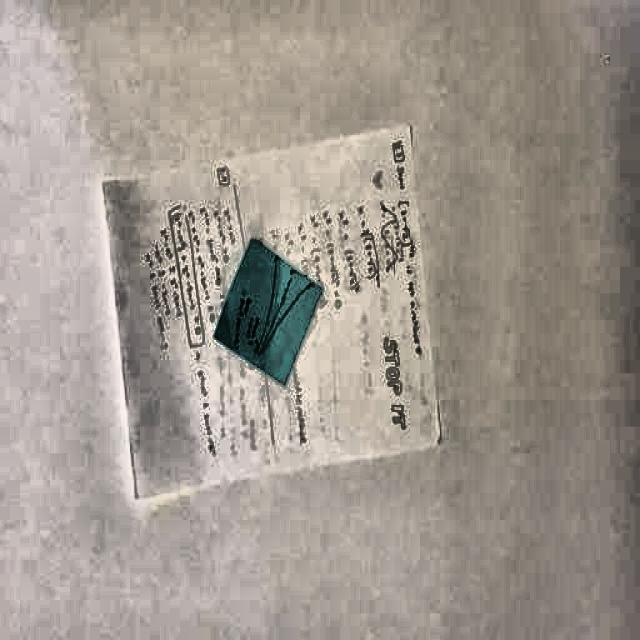paper: (100, 126, 445, 484)
